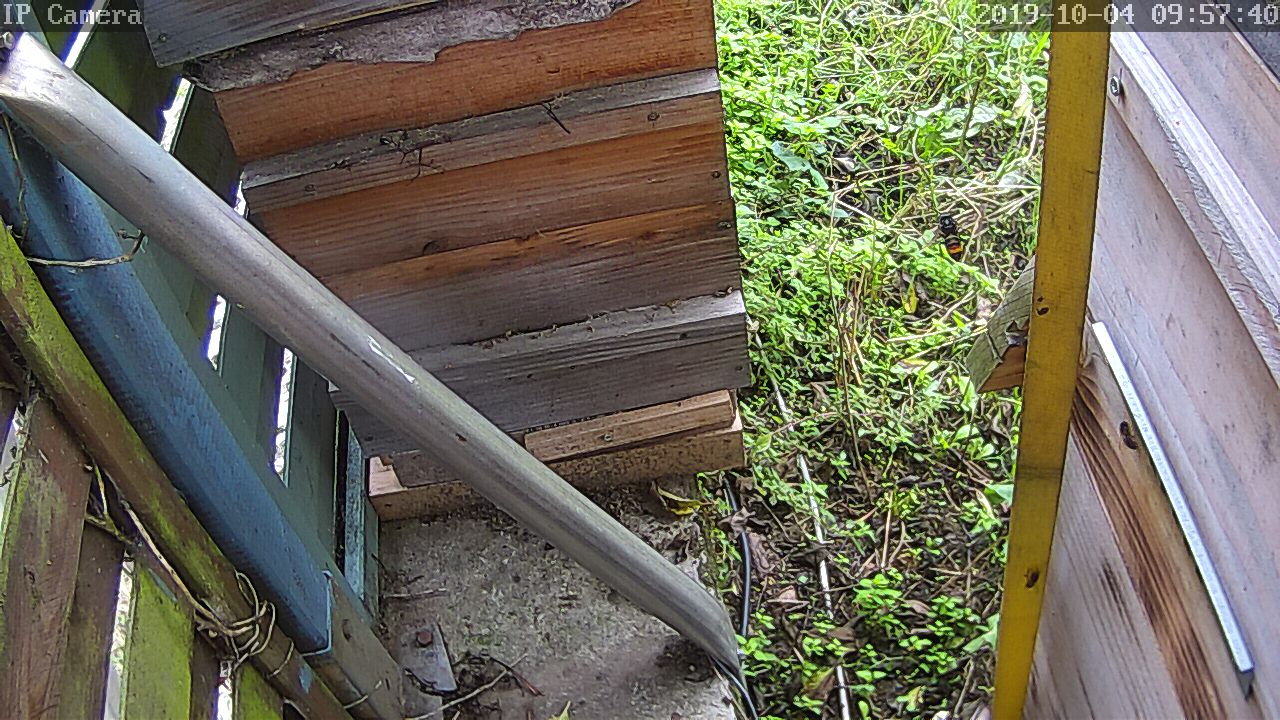bee: (1113, 419, 1145, 455), (1024, 567, 1041, 592)
hornet: (934, 214, 970, 264)
